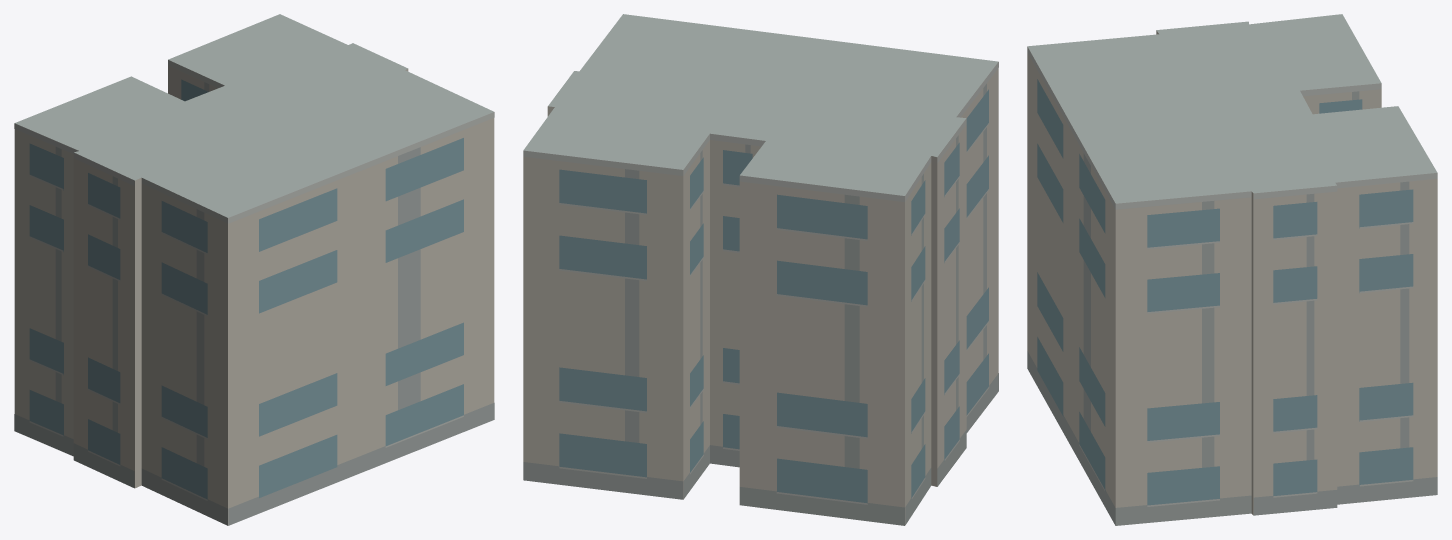
Rendered from survey-upis-32571599.glb.
The picture shows the model from 3 angles, left to right: view 1: azimuth 30°, elevation 25°; view 2: azimuth 150°, elevation 25°; view 3: azimuth 270°, elevation 25°; orthographic projection. The views are drawn at different scales.
Visible parts, largest first — view 1: survey-upis-32571599.tmp; view 2: survey-upis-32571599.tmp; view 3: survey-upis-32571599.tmp.
Boxes of the visible parts, x1,y1,x2,y2 form: survey-upis-32571599.tmp: (14, 14, 494, 525); survey-upis-32571599.tmp: (523, 14, 998, 525); survey-upis-32571599.tmp: (1027, 14, 1437, 525).
Size of the model in its own units: 16.49 by 13.05 by 15.07.
